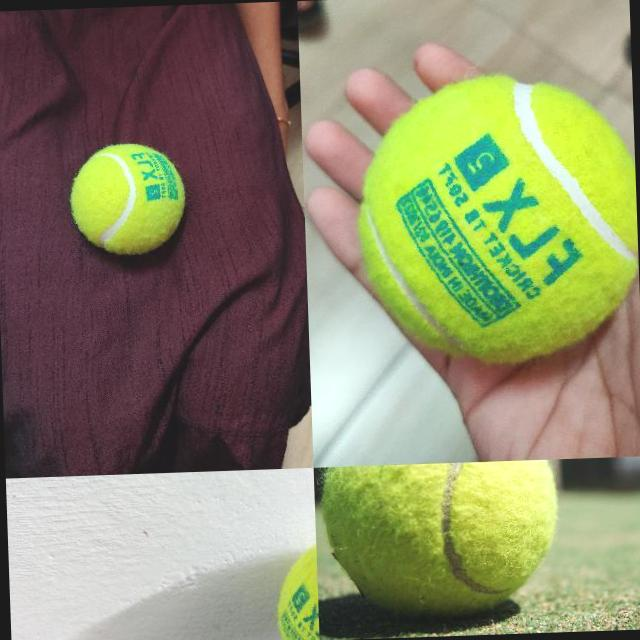Tennis Ball: (353, 73, 640, 366), (318, 459, 562, 624), (70, 140, 186, 254)
